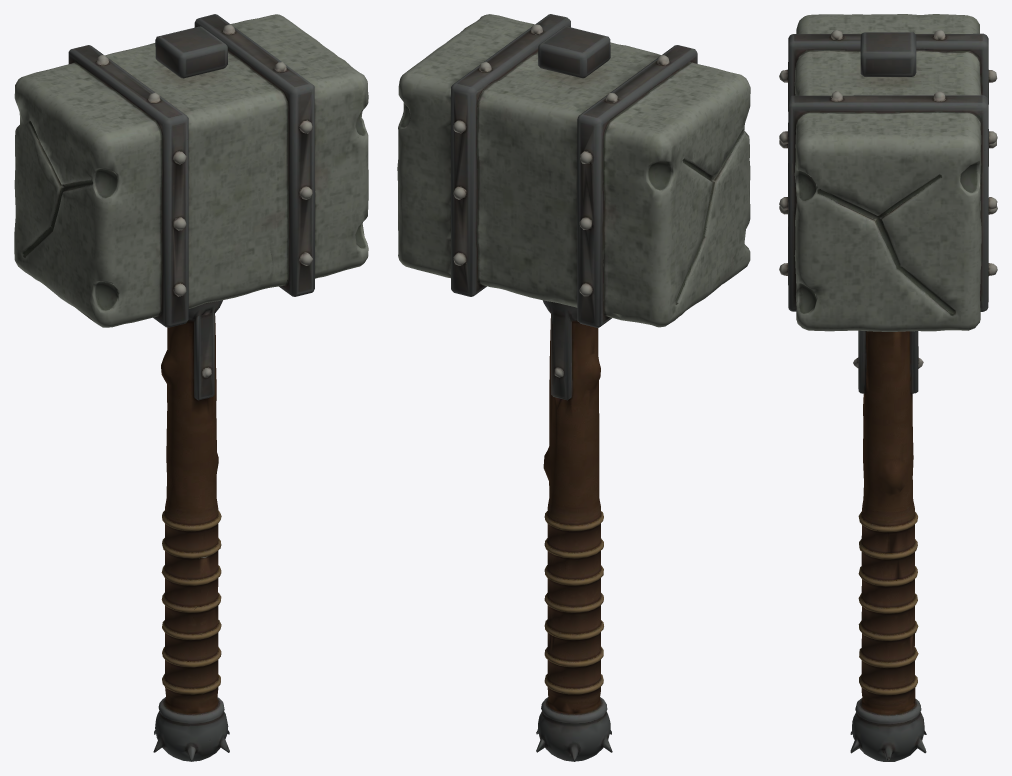
File: boss_brute_hammer_gor.glb
3 views of the same model, side by side, from view 1: azimuth 30°, elevation 25°; view 2: azimuth 150°, elevation 25°; view 3: azimuth 270°, elevation 25° (orthographic).
Parts seen in each view (by area): view 1: boss_brute_hammer_gor; view 2: boss_brute_hammer_gor; view 3: boss_brute_hammer_gor.
Boxes of the visible parts, x1=… form: boss_brute_hammer_gor: x1=14, y1=14, x2=368, y2=761; boss_brute_hammer_gor: x1=397, y1=14, x2=750, y2=761; boss_brute_hammer_gor: x1=779, y1=14, x2=997, y2=761.
Bounding box in the file's own units: 0.7374 × 1.85 × 0.5115.
Materials: 1 (1 with a texture image).
